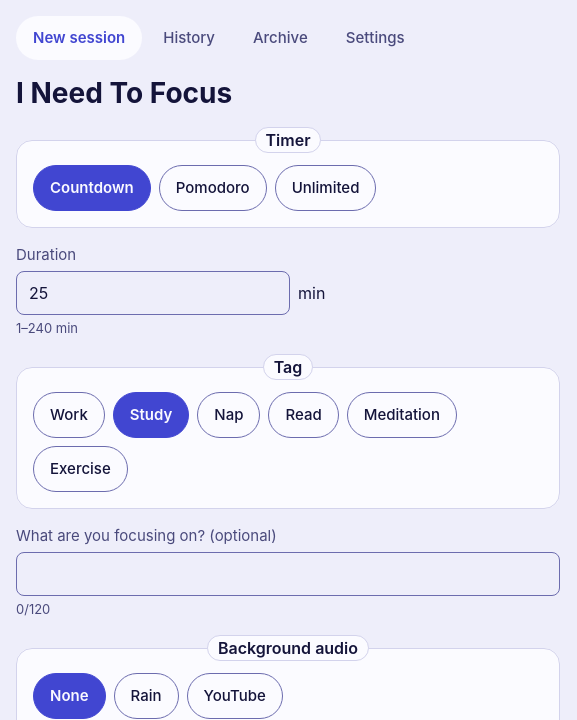
App with settings (#22) › pre-fills the setup screen with the other device's tag and config (AC12.5)
Expected: the radio button labelled "Study" is checked, [113,392,189,438]
What coordinates should you click on to do the following:
click the radio button labelled "Pomodoro"
I would click on:
 (213, 188)
Its box is [159,165,267,211].
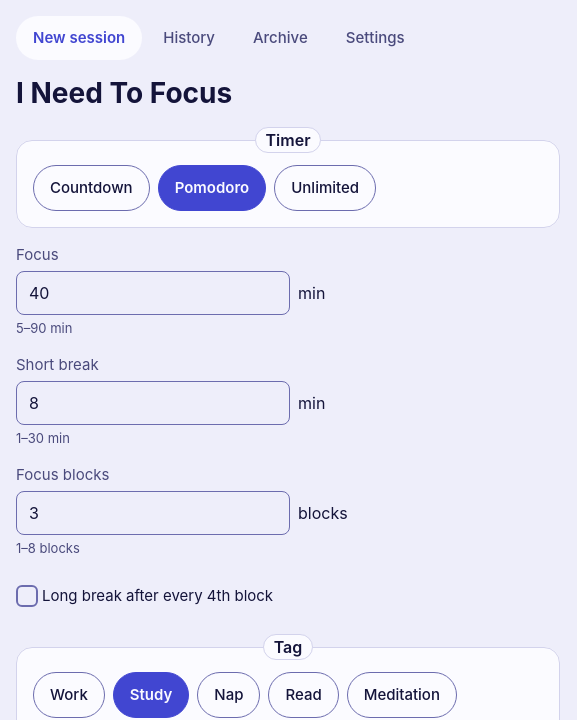
Expected: the field showing "40" is shown, [16,270,290,314]
What coordinates should you click on to do the following:
click the radio button labelled "Unlimited"
I would click on:
 (325, 188)
Its box is [274,165,376,211].
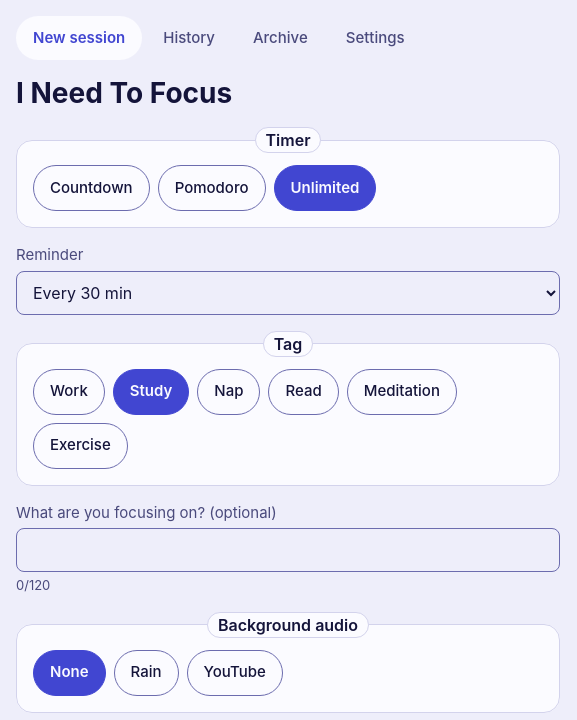
Expected: the dropdown labelled "Reminder" shows "Every 30 min", [16,270,560,314]
